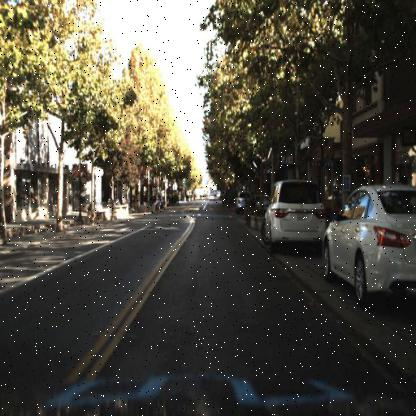car: (318, 184, 414, 302), (260, 178, 324, 253), (232, 186, 254, 214), (250, 192, 272, 212)
